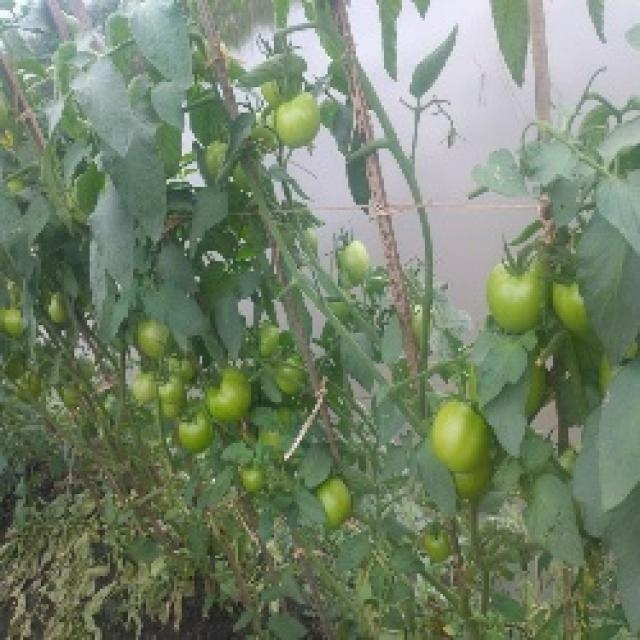tomato: (491, 253, 542, 333), (433, 398, 492, 460), (547, 270, 597, 339), (329, 229, 377, 289), (213, 365, 258, 426), (274, 96, 322, 150), (317, 469, 358, 531), (179, 410, 216, 455), (155, 372, 194, 412), (459, 456, 496, 495), (417, 524, 455, 561), (124, 374, 159, 411), (274, 360, 303, 400), (133, 323, 157, 367), (170, 348, 198, 379), (3, 304, 22, 340), (239, 464, 260, 491), (51, 299, 69, 325)
